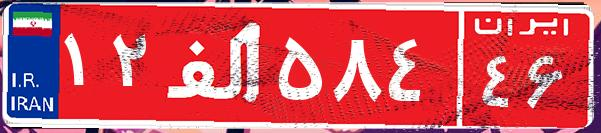1: (57, 26, 110, 107)
2: (110, 28, 158, 105)
4: (385, 28, 445, 110), (475, 38, 525, 113)
5: (273, 28, 330, 110)
6: (525, 38, 570, 115)
8: (330, 28, 385, 110)
الف: (158, 15, 273, 115)
